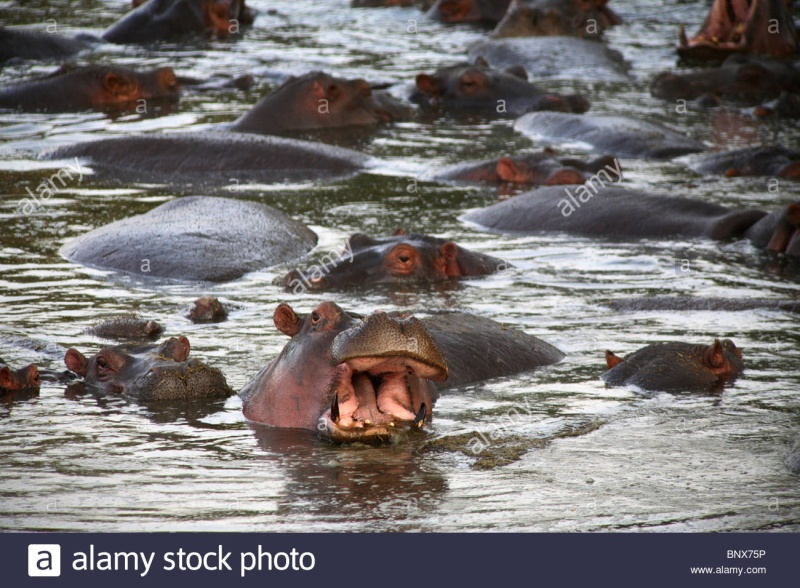hipopotamo: (241, 291, 566, 451), (265, 223, 512, 310), (59, 334, 220, 409)
